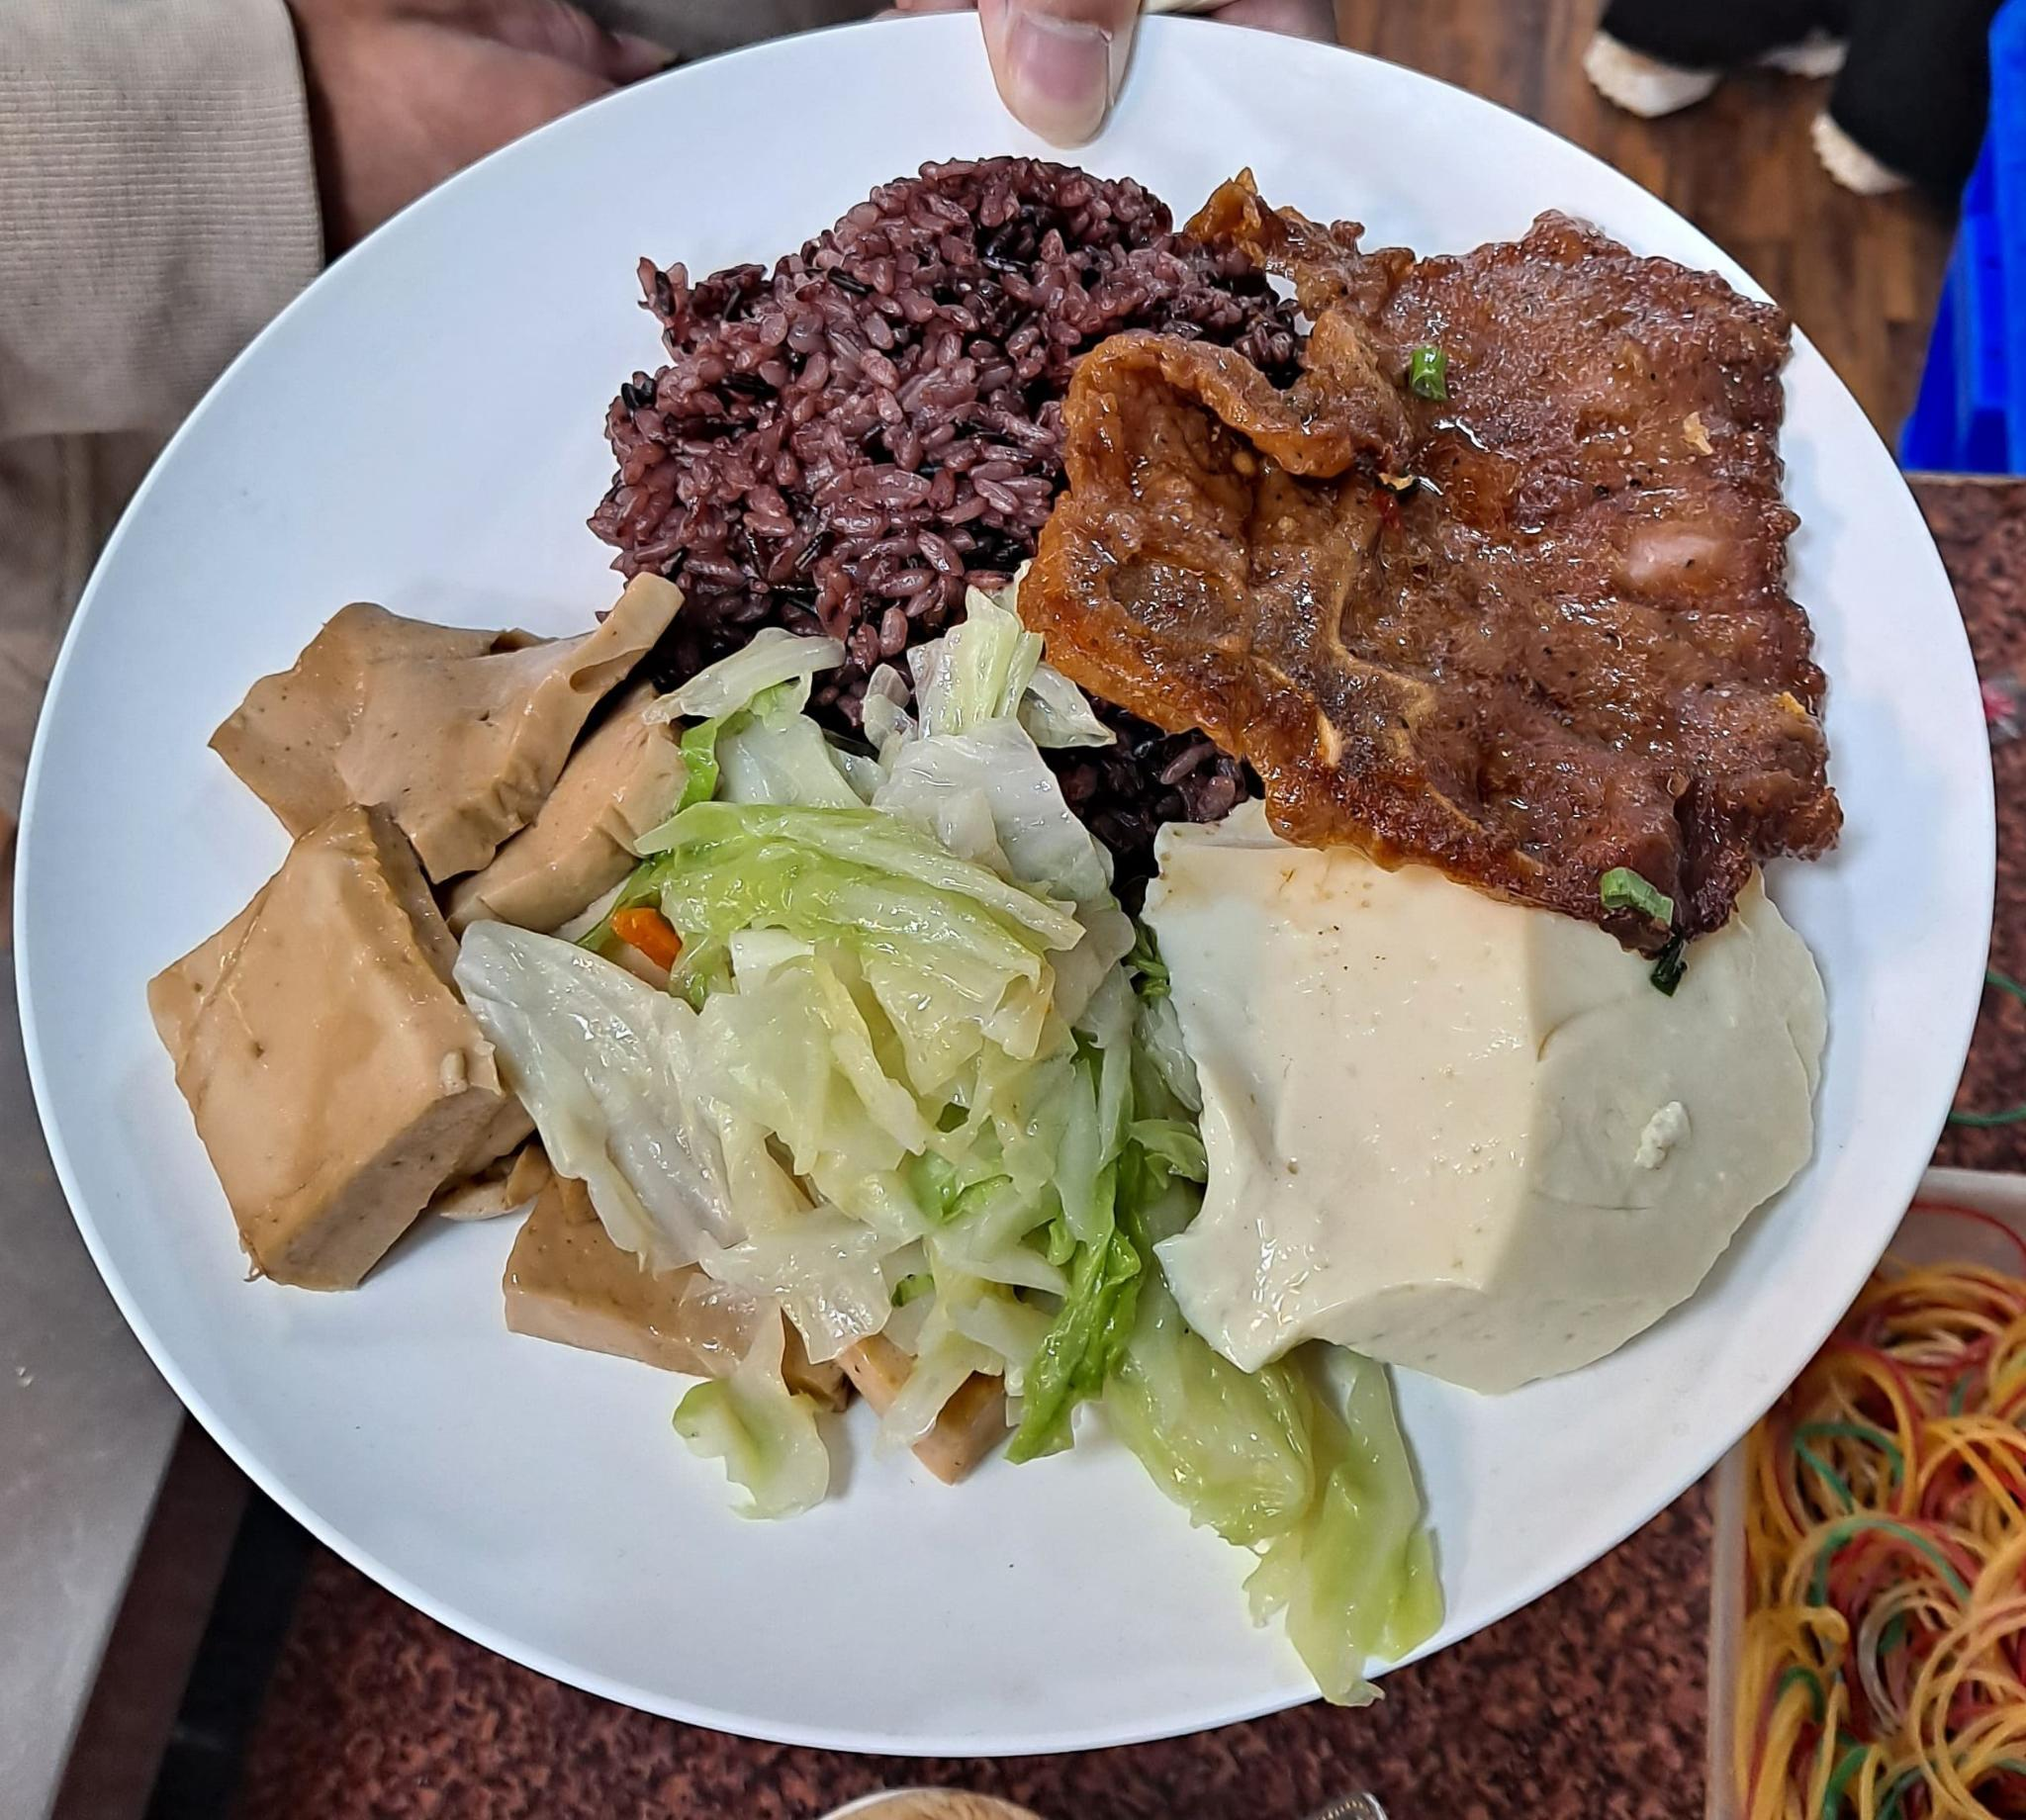big fried chicken leg: (26, 9, 2026, 1768)
braised fish: (598, 145, 1288, 796)
braised fish fillet: (484, 623, 1449, 1686), (140, 556, 736, 1375), (1163, 793, 1842, 1401)
braised pork: (1035, 169, 1852, 945)
